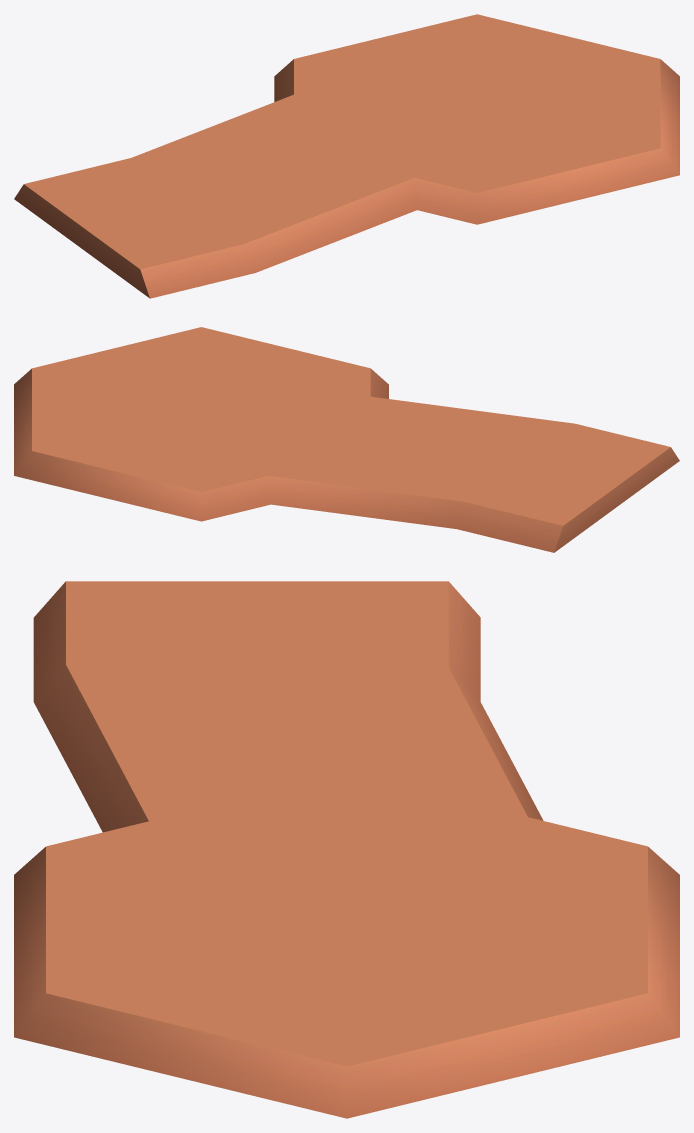
File: kenney-hexagon-path-start.glb
3 renders of one model, top to bottom at view 1: azimuth 30°, elevation 25°; view 2: azimuth 150°, elevation 25°; view 3: azimuth 270°, elevation 25°, orthographic. The views are drawn at different scales.
Visible parts, largest first — view 1: path_start; view 2: path_start; view 3: path_start.
Boxes of the visible parts, <box> form: path_start: <box>14,14,679,298</box>; path_start: <box>14,327,679,552</box>; path_start: <box>14,581,679,1118</box>.
Size of the model in its own units: 0.74 by 0.025 by 0.4157.
Materials: 1 (1 with a texture image).
